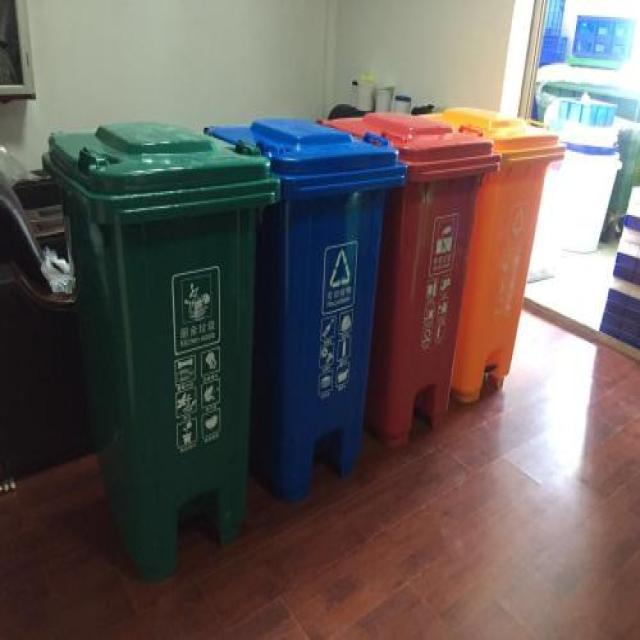garbage_bin: (40, 117, 280, 578), (204, 118, 406, 502), (318, 109, 500, 451), (414, 104, 564, 401)
